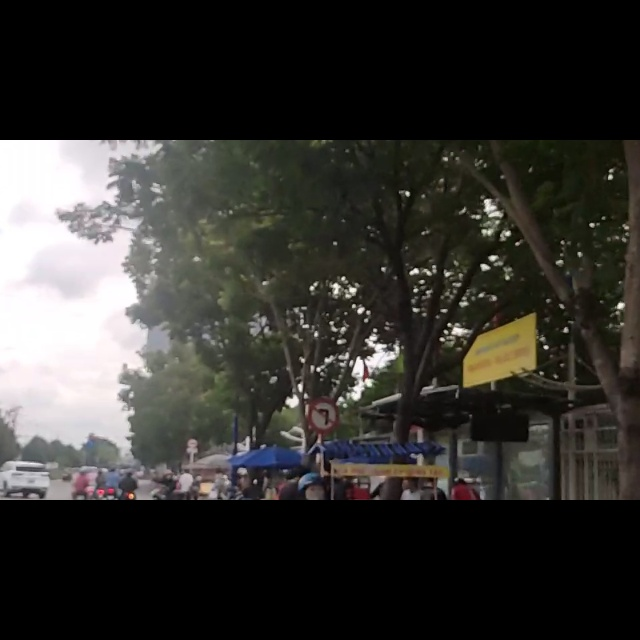bien_cam: (309, 462, 339, 518)
